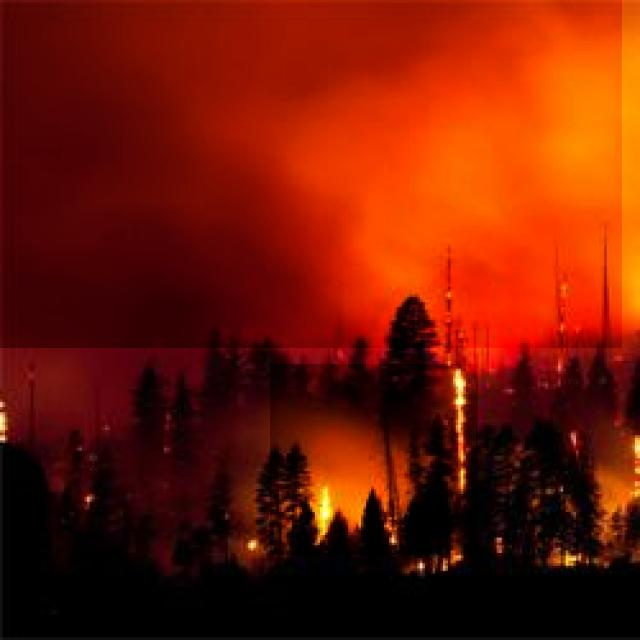Fire: (270, 364, 478, 555)
Smoke: (0, 0, 622, 348)
